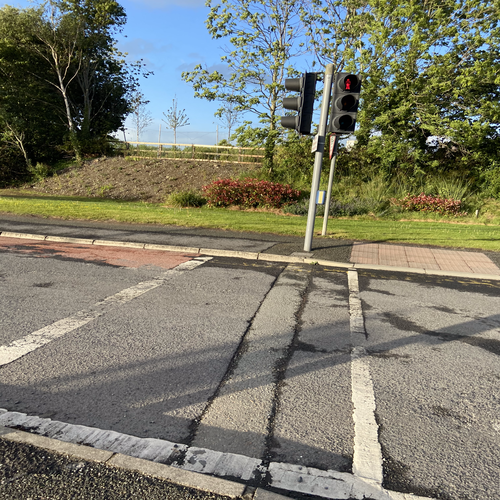Traffic Light: (332, 72, 360, 137), (285, 71, 313, 135)
